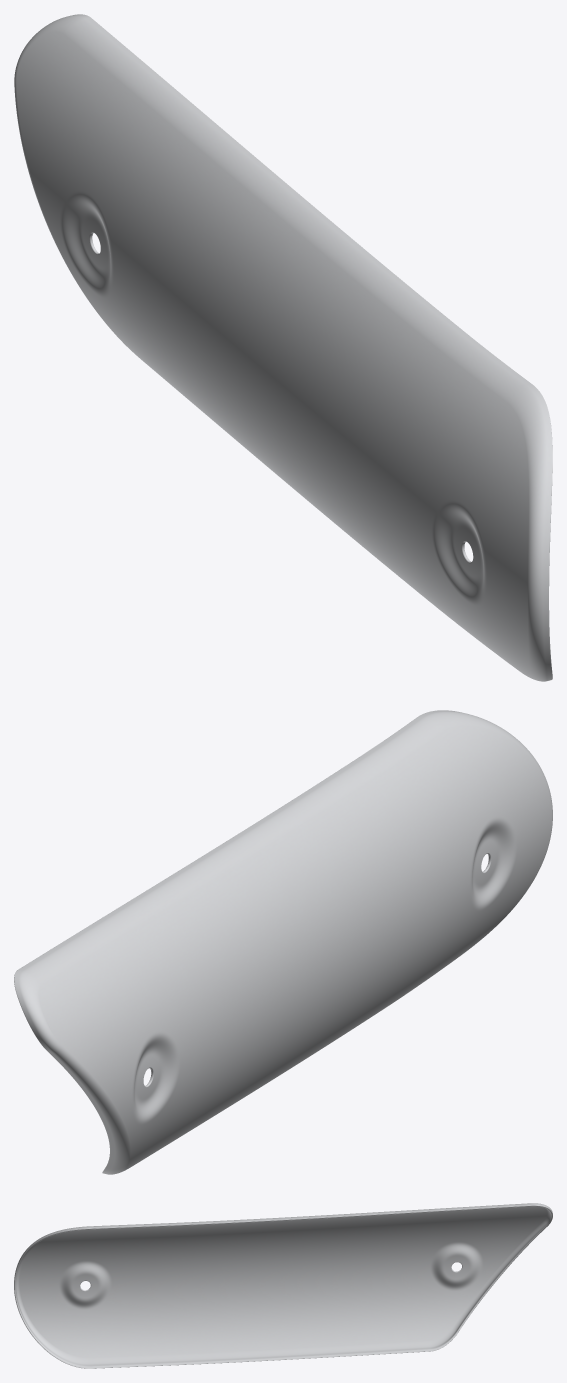
File: exhaust-heatshield-inspection.glb
The picture shows the model from 3 angles, top to bottom: view 1: azimuth 30°, elevation 25°; view 2: azimuth 150°, elevation 25°; view 3: azimuth 270°, elevation 25°; orthographic projection. The views are drawn at different scales.
Visible parts, largest first — view 1: Formed heatshield with two dished true holes - conditional P; view 2: Formed heatshield with two dished true holes - conditional P; view 3: Formed heatshield with two dished true holes - conditional P.
Boxes of the visible parts, left/top/right/bottom form: Formed heatshield with two dished true holes - conditional P: left=14, top=14, right=552, bottom=681; Formed heatshield with two dished true holes - conditional P: left=14, top=710, right=552, bottom=1174; Formed heatshield with two dished true holes - conditional P: left=14, top=1203, right=552, bottom=1368.
Bounding box in the file's own units: 0.0243 × 0.0953 × 0.286.
Materials: 1 (1 with a texture image).
